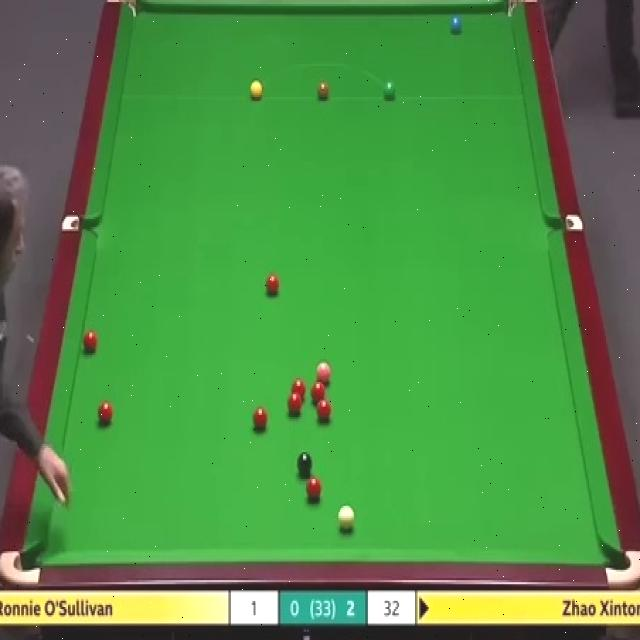black-ball: (297, 450, 314, 480)
blue-ball: (448, 10, 464, 36)
brown-ball: (316, 81, 331, 102)
green-ball: (382, 80, 397, 102)
pink-ball: (313, 360, 332, 385)
red-ball: (97, 400, 114, 428), (306, 477, 324, 502), (265, 272, 281, 298), (286, 393, 303, 417), (316, 398, 332, 422), (82, 330, 97, 354), (290, 379, 307, 400), (253, 407, 267, 432), (310, 382, 326, 402)
white-ball: (338, 505, 355, 535)
yellow-ball: (250, 80, 264, 101)
